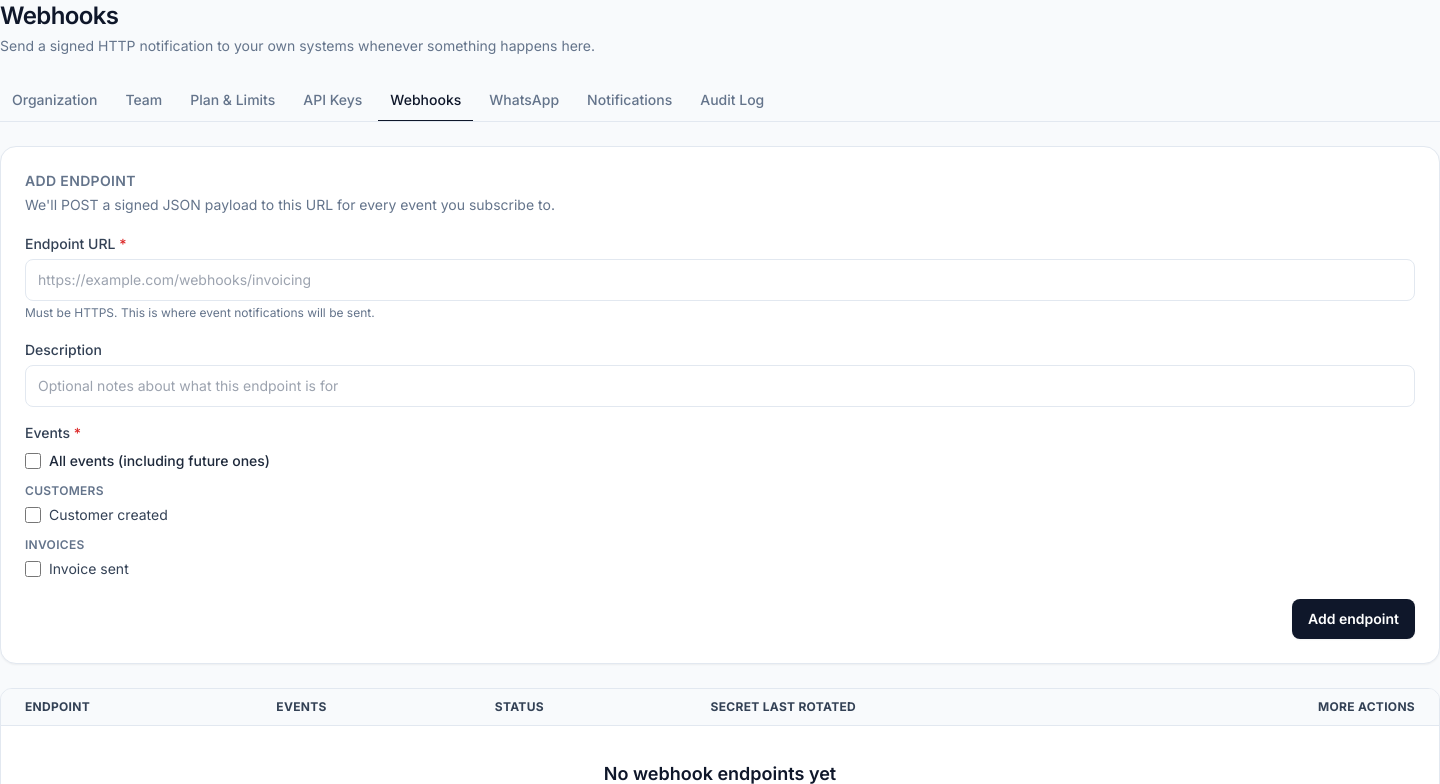
Test: WebhooksPage › requires a valid url and at least one event before submitting
The width and height of the screenshot is (1440, 784).
What coordinates should you click on to do the following:
click the button "Add endpoint"
I would click on:
 (1354, 619)
Its box is [1292,599,1415,639].
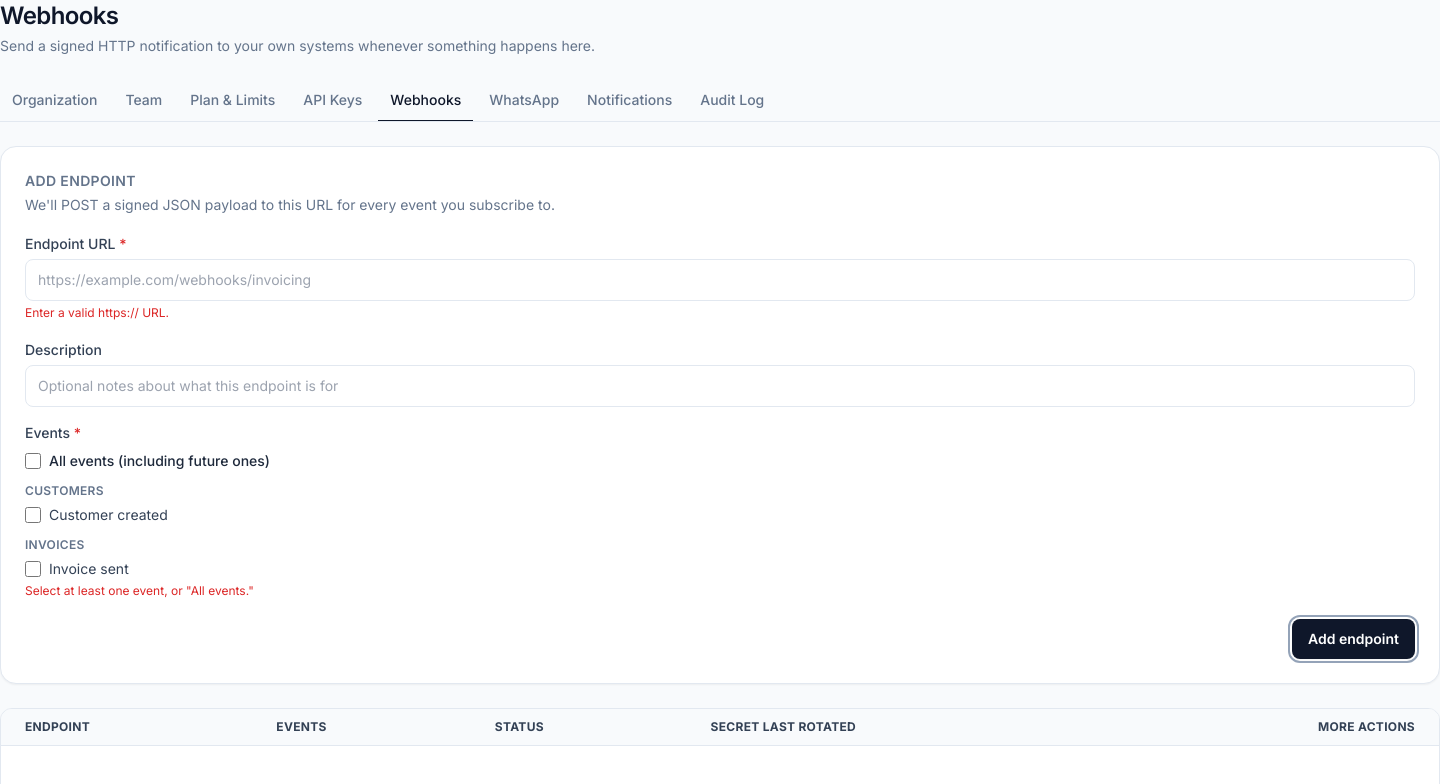
Now the text "Enter a valid https:// URL." is shown, box [25,305,169,320]
